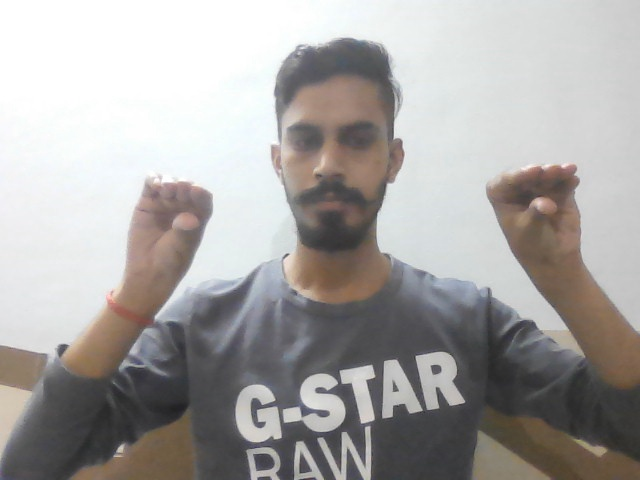No: (476, 159, 594, 275), (120, 167, 215, 285)
